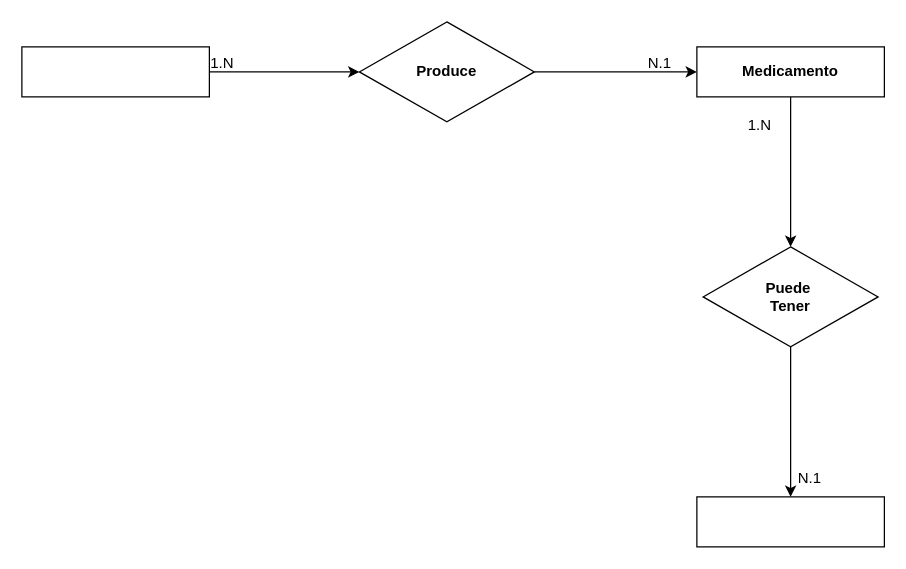
Image size: 906x569. Some labels were removed from this diagram. The centre of each missing label's shape, as x and y in pixels:
Laboratorio: pixel 115 71
Venta: pixel 790 521
